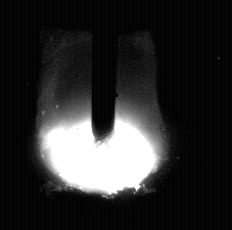arame: (92, 0, 117, 145)
poca: (37, 0, 168, 230)
